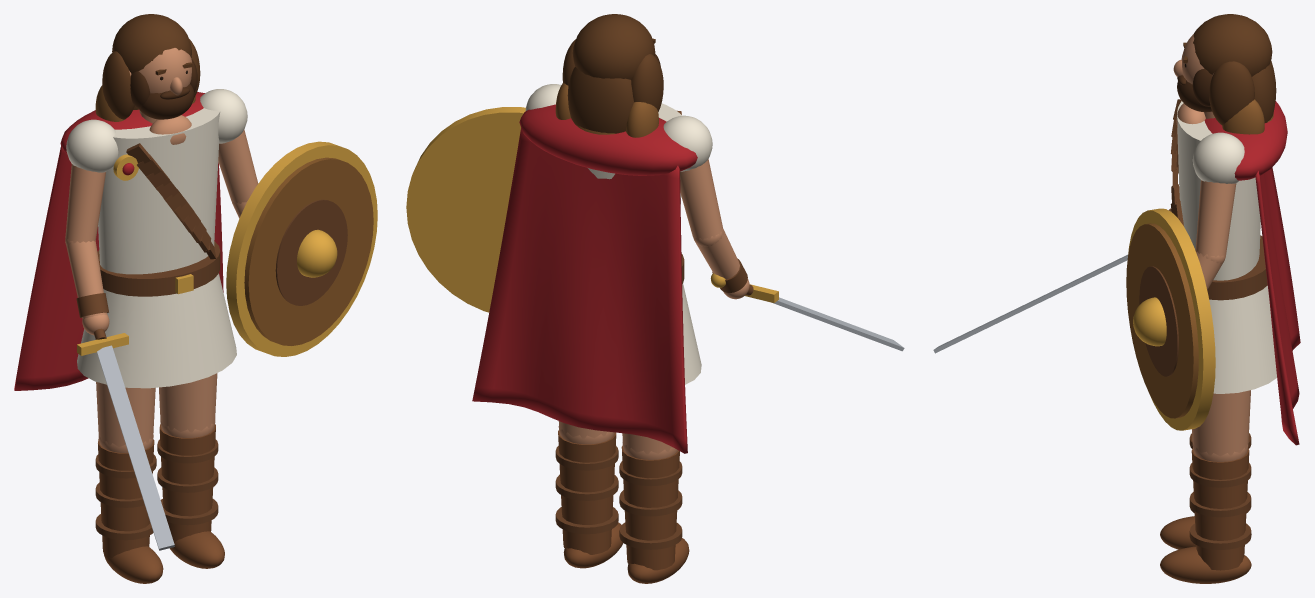
File: ulisse.glb
The picture shows the model from 3 angles, left to right: view 1: azimuth 30°, elevation 25°; view 2: azimuth 150°, elevation 25°; view 3: azimuth 270°, elevation 25°; orthographic projection. The views are drawn at different scales.
Parts seen in each view (by area): view 1: Torso, Scudo_disco, Tunica_gonna, Mantello, Scudo_bordo, Scudo_anello, Calzare_L, Spada_lama, Calzare_R, Capelli_calotta, Coscia_L, Cintura (+22 smaller); view 2: Mantello, Scudo_bordo, Mantello_spalle, Calzare_L, Calzare_R, Capelli_calotta, Capelli_dietro1, Braccio_R, Spalla_R, Ciocca_alta_-1, Avambraccio_R, Spada_lama (+9 smaller); view 3: Scudo_disco, Mantello, Tunica_gonna, Torso, Scudo_bordo, Calzare_L, Capelli_calotta, Coscia_L, Braccio_L, Mantello_spalle, Scudo_anello, Spalla_L (+14 smaller).
Part boxes in pixels (x1,y1,x2,y2): Torso: (98,108,220,274); Scudo_disco: (244,157,373,345); Tunica_gonna: (77,273,236,388); Mantello: (14,145,223,390); Scudo_bordo: (226,141,377,356); Scudo_anello: (275,199,347,305); Calzare_L: (159,424,215,542); Spada_lama: (97,345,174,550); Calzare_R: (98,439,154,558); Capelli_calotta: (112,14,191,73); Coscia_L: (159,373,217,432); Cintura: (97,241,220,296); Mantello: (472,127,687,453); Scudo_bordo: (406,107,525,312); Mantello_spalle: (519,104,697,175); Calzare_L: (558,430,616,554); Calzare_R: (621,445,679,570); Capelli_calotta: (572,14,655,79); Capelli_dietro1: (567,67,633,133); Braccio_R: (680,159,723,240); Spalla_R: (663,115,712,171); Ciocca_alta_-1: (631,54,663,111); Avambraccio_R: (695,229,739,292); Spada_lama: (772,297,904,351); Scudo_disco: (1126,223,1198,418); Mantello: (1255,167,1300,445); Tunica_gonna: (1209,285,1276,393); Torso: (1177,101,1260,280); Scudo_bordo: (1128,208,1215,430); Calzare_L: (1191,448,1249,570); Capelli_calotta: (1193,14,1272,76); Coscia_L: (1192,390,1250,456); Braccio_L: (1195,180,1236,257); Mantello_spalle: (1204,101,1287,180); Scudo_anello: (1139,266,1178,376); Spalla_L: (1192,132,1244,183).
Bounding box in the file's own units: 1.25 × 1.85 × 1.12.
